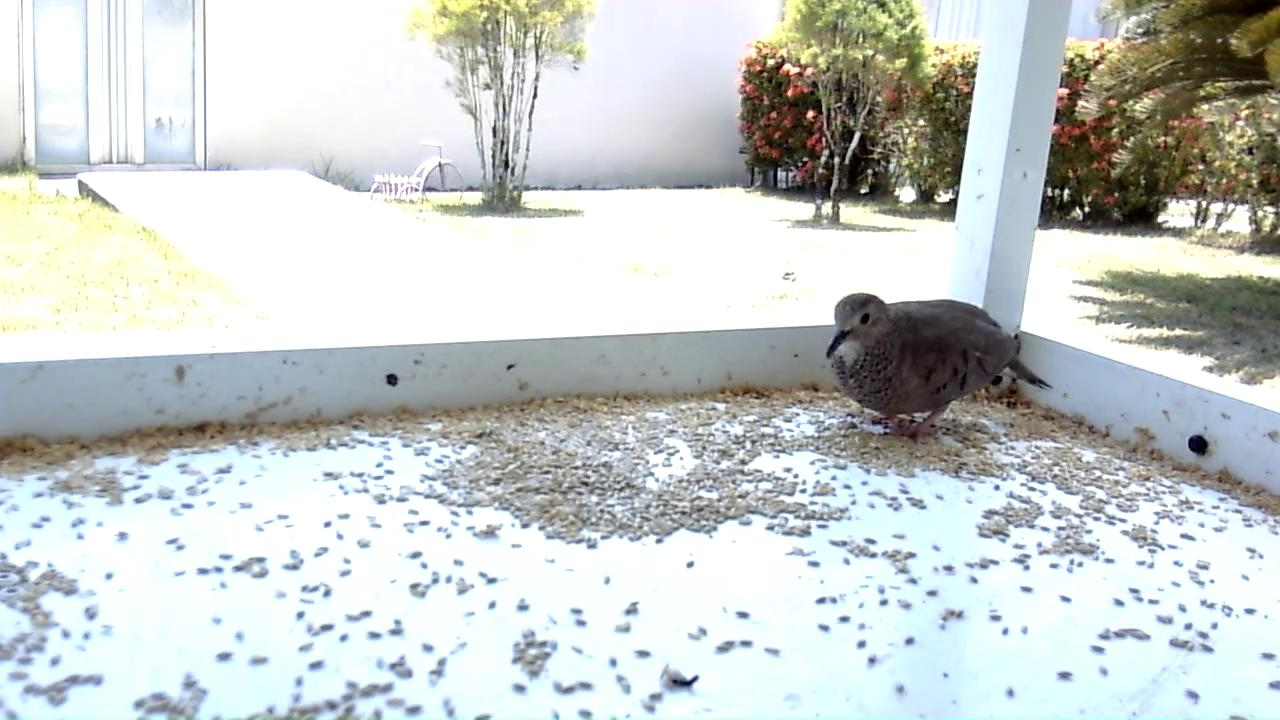rolinha: (822, 291, 1058, 448)
